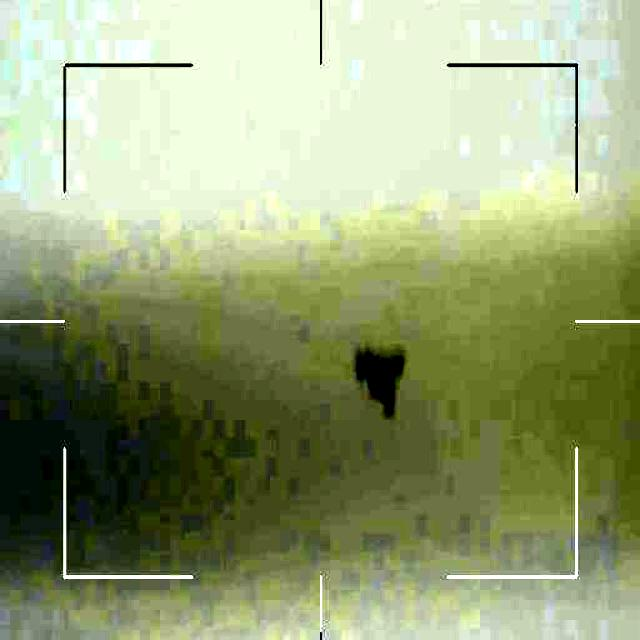bird: (350, 344, 412, 416)
